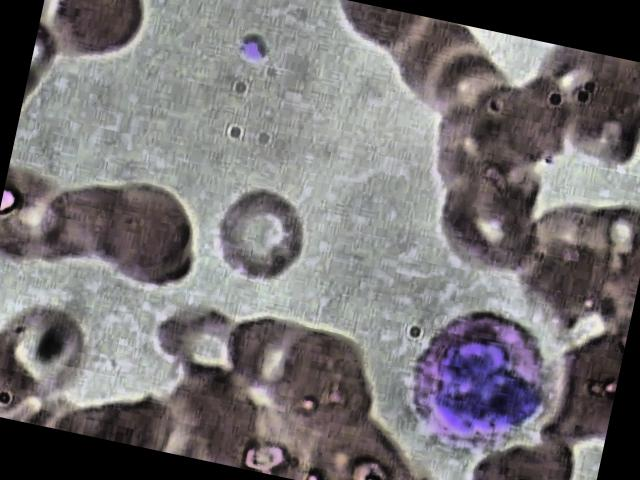Platelets: (229, 30, 274, 69)
RBC: (78, 167, 213, 300), (258, 313, 394, 444), (419, 165, 552, 285), (200, 177, 321, 296), (0, 296, 106, 415), (143, 299, 250, 396), (34, 0, 166, 77), (456, 420, 588, 480)
WBC: (392, 296, 569, 476)
